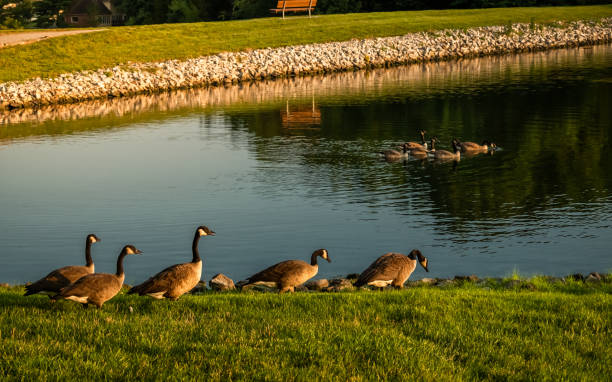goose: (130, 224, 219, 301), (22, 231, 103, 302), (61, 244, 144, 308), (242, 247, 330, 289), (351, 246, 432, 291), (435, 136, 461, 161), (400, 129, 428, 150), (383, 141, 412, 160), (459, 139, 498, 152), (413, 137, 437, 158)
